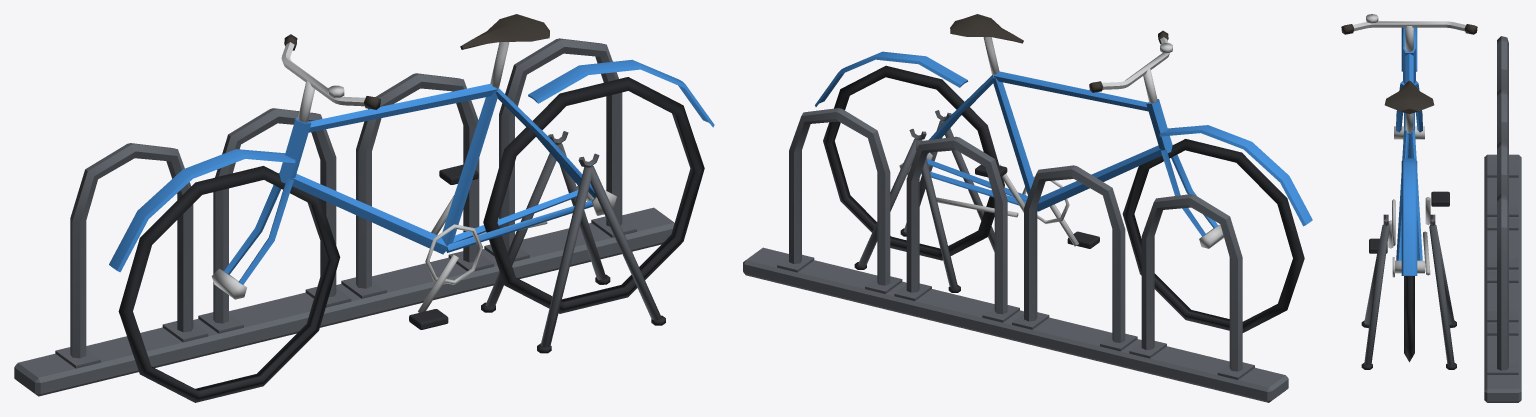
The model's file is bikeRack.far.glb.
3 renders of one model, left to right at view 1: azimuth 30°, elevation 25°; view 2: azimuth 150°, elevation 25°; view 3: azimuth 270°, elevation 25°, orthographic. The views are drawn at different scales.
Visible parts, largest first — view 1: bikeRack; view 2: bikeRack; view 3: bikeRack.
Part boxes in pixels (x1,y1,x2,y2): bikeRack: (14,14,714,402); bikeRack: (743,14,1312,402); bikeRack: (1341,14,1521,402).
Bounding box in the file's own units: 1.8 × 0.832 × 0.5787.
